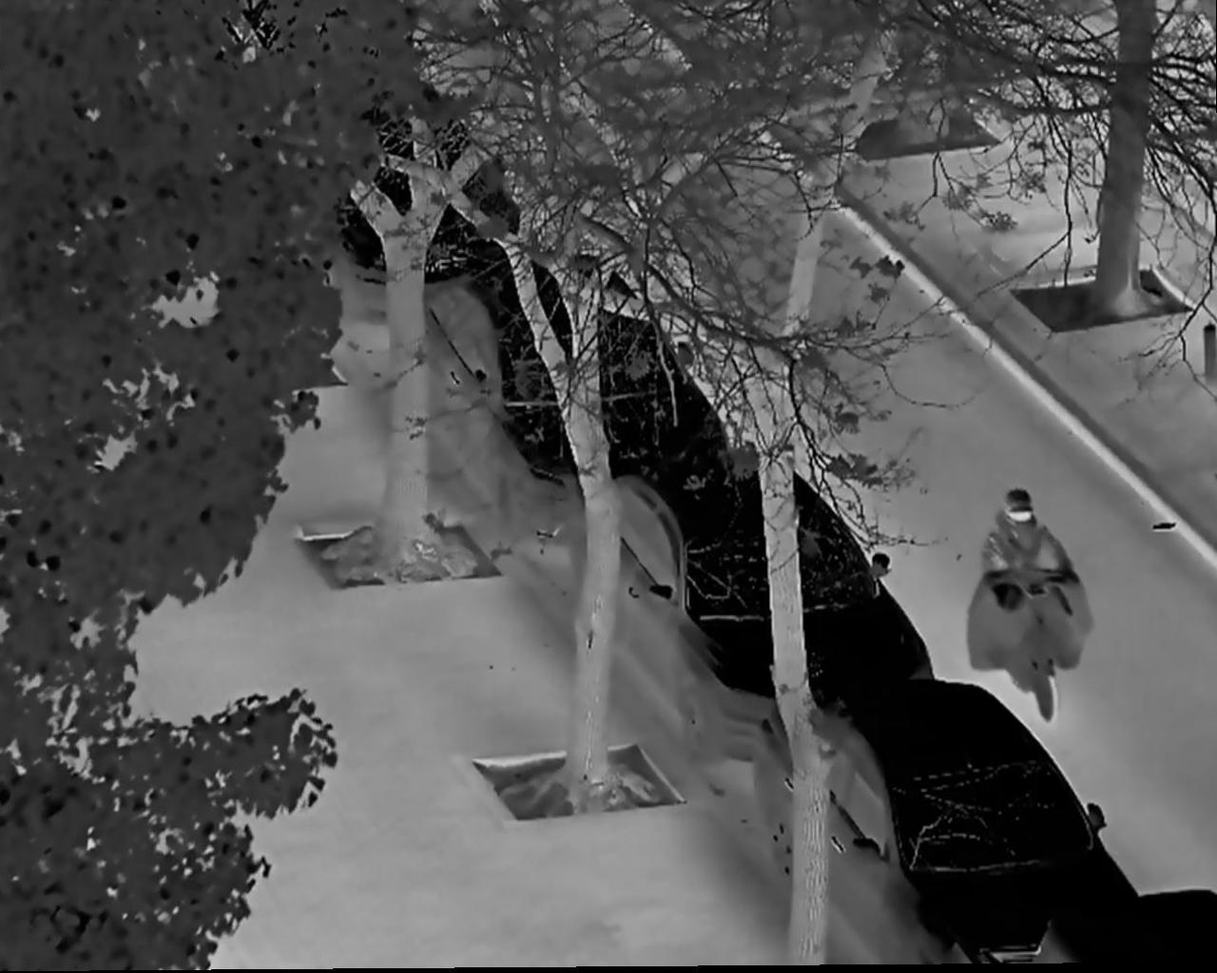person: (985, 484, 1075, 645)
